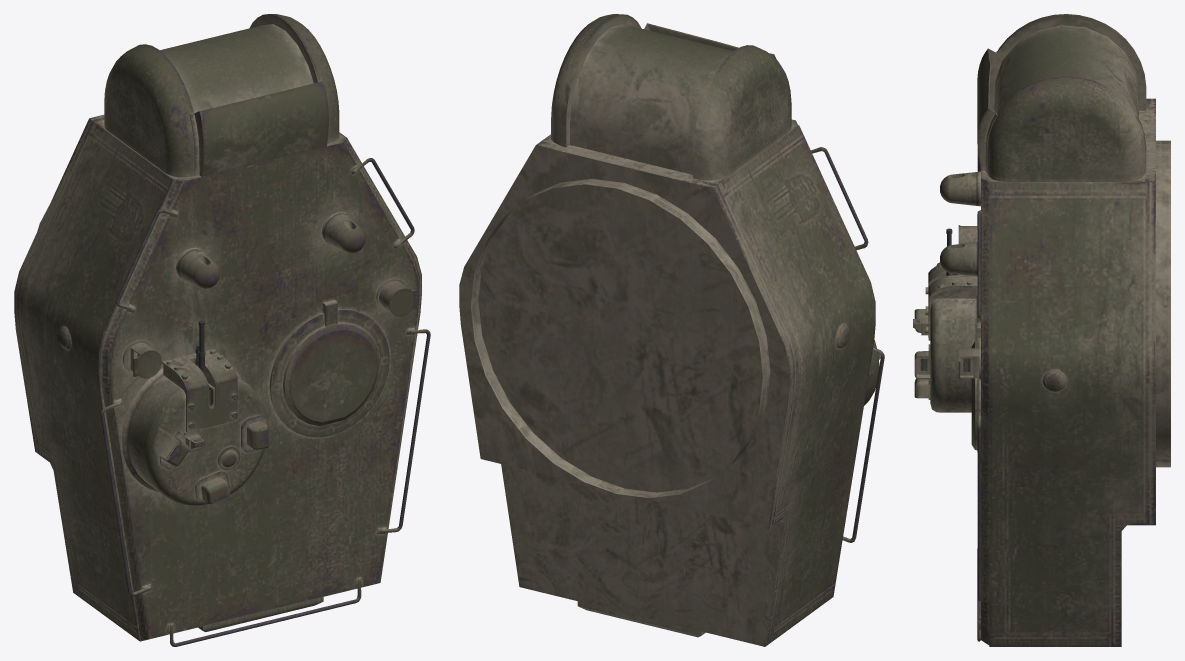
File: Turret_02.glb
3 views of the same model, side by side, from view 1: azimuth 30°, elevation 25°; view 2: azimuth 150°, elevation 25°; view 3: azimuth 270°, elevation 25° (orthographic). The views are drawn at different scales.
Visible parts, largest first — view 1: set_0_group_0; view 2: set_0_group_0; view 3: set_0_group_0.
Boxes of the visible parts, x1,y1,x2,y2 form: set_0_group_0: [14, 14, 430, 646]; set_0_group_0: [459, 14, 884, 646]; set_0_group_0: [913, 14, 1170, 646].
Size of the model in its own units: 2.03 by 3.27 by 1.35.
1 material, 1 textured.
